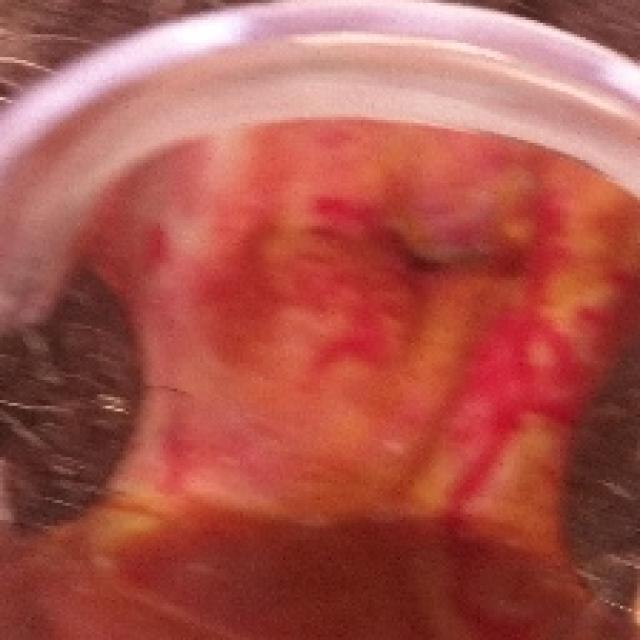type-3: (19, 0, 640, 602)
